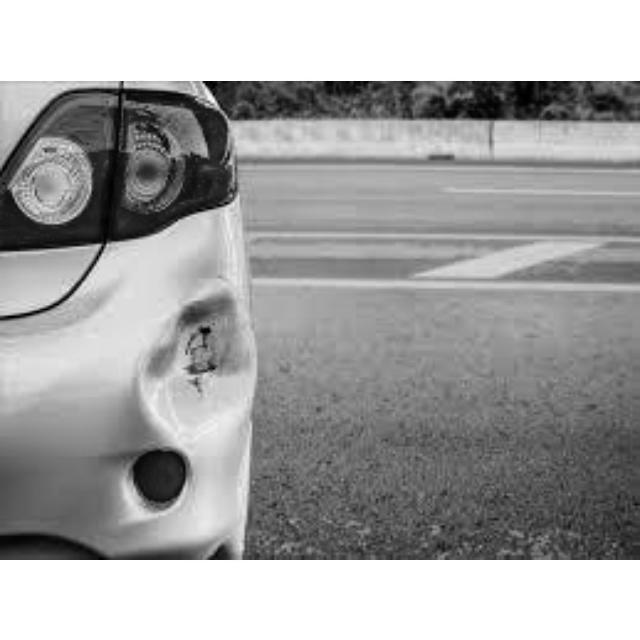rear-bumper-dent: (0, 258, 256, 556)
